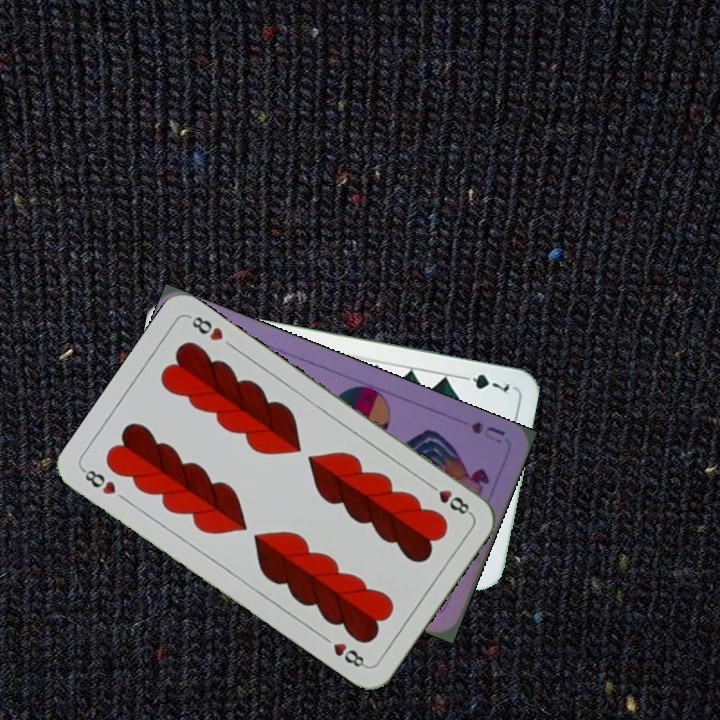G7: (455, 369, 513, 394)
H8: (422, 478, 474, 518), (78, 465, 119, 498)
SU: (467, 417, 508, 447)
